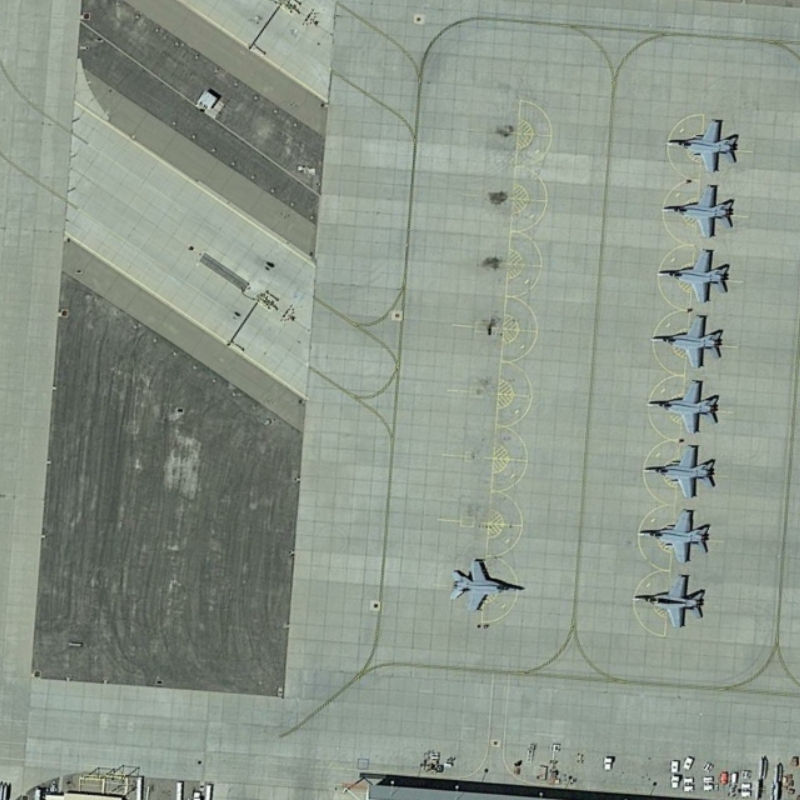A16: (651, 247, 735, 309), (661, 115, 743, 177), (629, 571, 710, 633), (632, 507, 713, 567), (641, 376, 722, 436), (641, 441, 720, 502), (446, 556, 529, 614), (657, 182, 739, 240), (646, 312, 726, 371)
